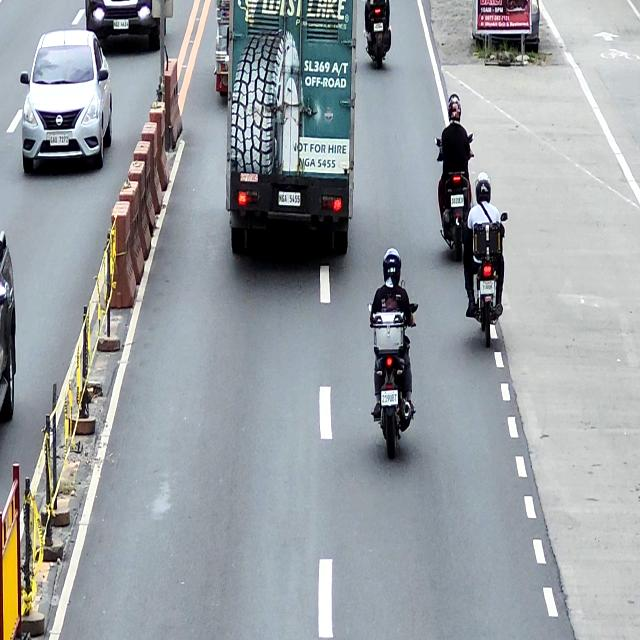Car: (21, 31, 112, 171), (85, 0, 166, 53), (0, 231, 17, 424)
License-Plate: (278, 191, 300, 206), (381, 391, 398, 405), (50, 134, 70, 145), (481, 281, 495, 296), (451, 195, 464, 208), (113, 20, 129, 30), (374, 23, 384, 32)
Motorcycle: (368, 302, 418, 459), (460, 211, 508, 350), (434, 133, 475, 261), (365, 0, 392, 69)
Truck: (224, 0, 358, 258)
